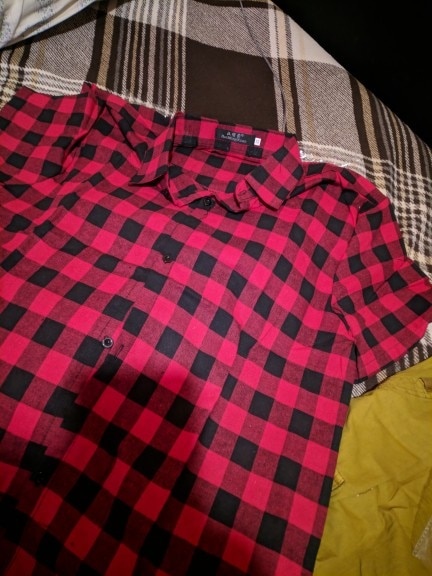shirts: (30, 99, 429, 576)
